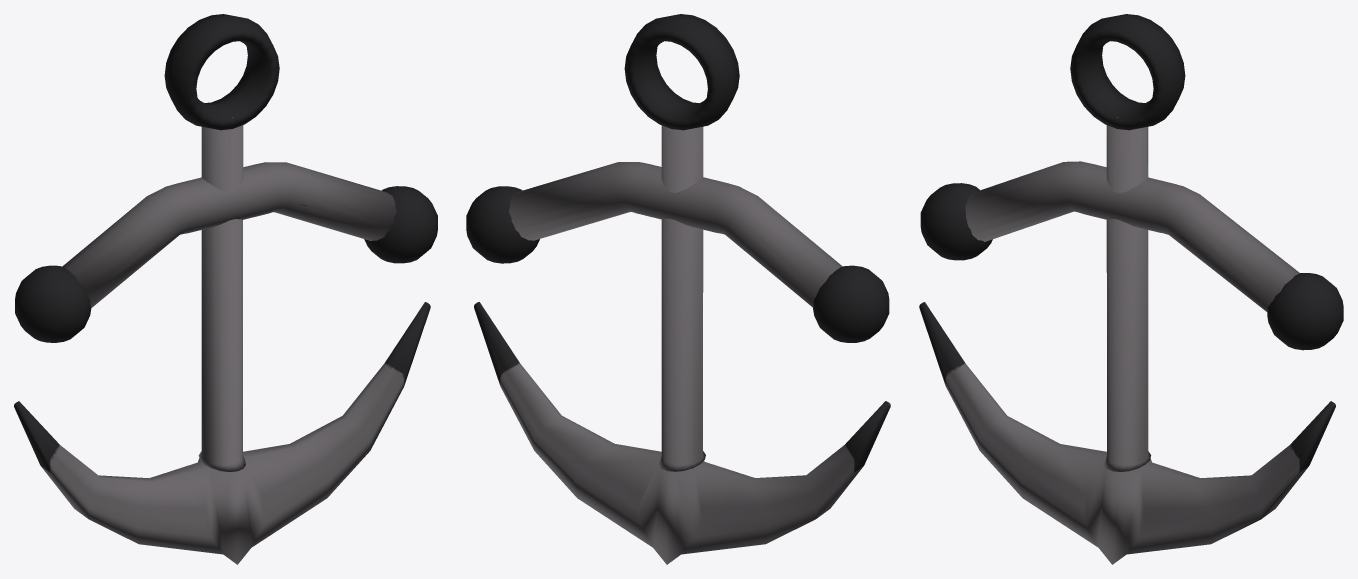
Rendered from ancla.fbx.
The picture shows the model from 3 angles, left to right: view 1: azimuth 30°, elevation 25°; view 2: azimuth 150°, elevation 25°; view 3: azimuth 330°, elevation 25°; orthographic projection.
Visible parts, largest first — view 1: Torus.012; view 2: Torus.012; view 3: Torus.012.
Part boxes in pixels (<box>): Torus.012: <box>14,14,437,564</box>; Torus.012: <box>466,14,890,564</box>; Torus.012: <box>919,14,1343,564</box>.
Size of the model in its own units: 428 by 524 by 68.17.
1 material, 1 textured.
